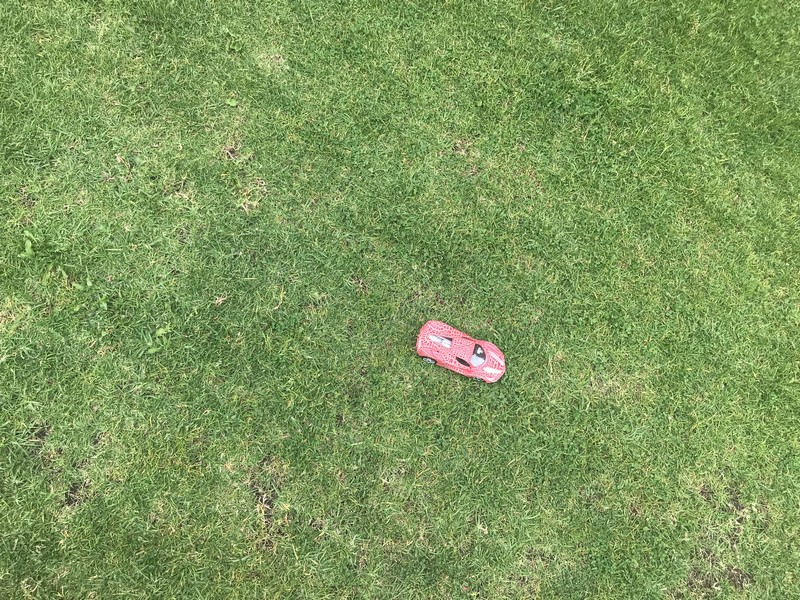RC: (415, 318, 508, 386)
